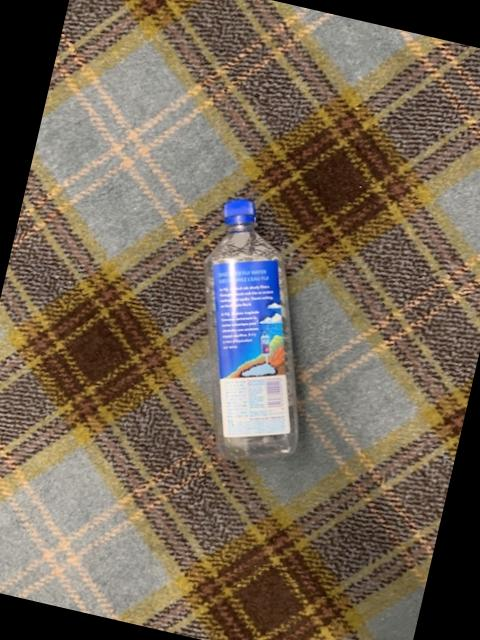plastic: (203, 196, 295, 456)
